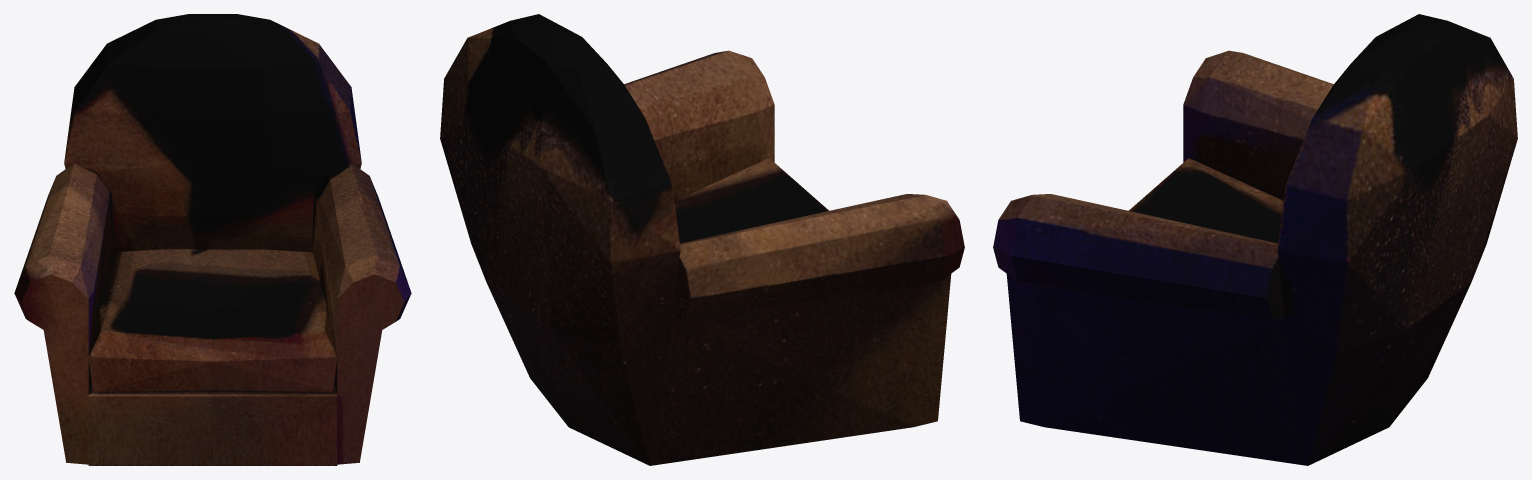
Rendered from leather_armchair.glb.
3 renders of one model, left to right at view 1: azimuth 30°, elevation 25°; view 2: azimuth 150°, elevation 25°; view 3: azimuth 270°, elevation 25°, orthographic. The views are drawn at different scales.
Visible parts, largest first — view 1: leather_armchair; view 2: leather_armchair; view 3: leather_armchair.
Part boxes in pixels (x1,y1,x2,y2): leather_armchair: [14, 14, 411, 465]; leather_armchair: [440, 14, 964, 465]; leather_armchair: [993, 14, 1517, 465].
Size of the model in its own units: 9.07 by 7.44 by 8.9.
1 material, 1 textured.
